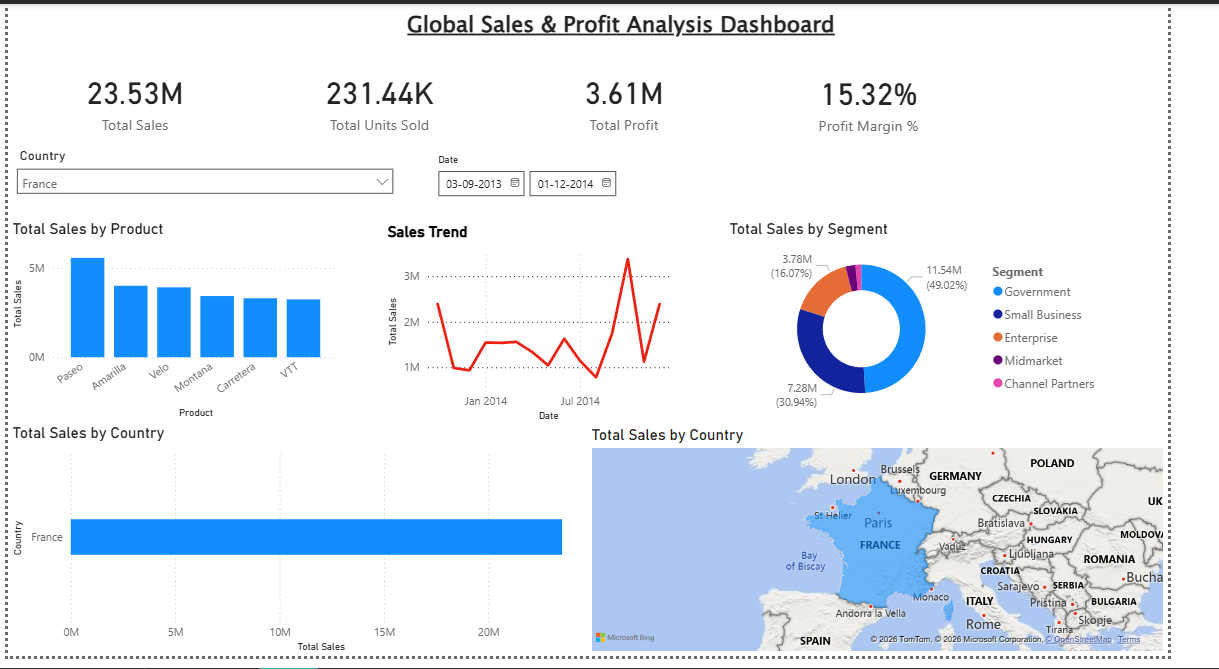

The page's visual inventory and layout, read from the dashboard file:
{"tool":"powerbi","page":{"name":"Page 1","canvas":[1280,720],"ordinal":0},"visuals":[{"type":"card","fields":{"Values":["Table2.Total Sales"]},"box":[0,58,279.9,96.1],"z":0},{"type":"card","fields":{"Values":["Table2.Total Profit"]},"box":[540,58,279.9,96.1],"z":1},{"type":"card","fields":{"Values":["Table2.Profit Margin %"]},"box":[810,58,279.9,97.7],"z":2},{"type":"card","fields":{"Values":["Table2.Total Units Sold"]},"box":[270,58,279.9,96.1],"z":3},{"type":"lineChart","title":"Sales Trend","fields":{"Y":["Table2.Total Sales"],"Category":["Table2.Date"]},"box":[414.6,241.1,332.1,223.2],"z":4},{"type":"clusteredBarChart","fields":{"Category":["Table2.Country"],"Y":["Table2.Total Sales"]},"box":[0,463.8,639.4,256.8],"z":5},{"type":"donutChart","fields":{"Category":["Table2.Segment"],"Y":["Table2.Total Sales"]},"box":[791.8,238.5,422.4,220.3],"z":6},{"type":"slicer","fields":{"Values":["Table2.Date"]},"box":[462.2,160.7,329.6,71.2],"z":7},{"type":"slicer","fields":{"Values":["Table2.Country"]},"box":[0,154.1,435.7,84.5],"z":8},{"type":"columnChart","fields":{"Category":["Table2.Product"],"Y":["Table2.Total Sales"]},"box":[0,239.3,369.6,223.2],"z":9},{"type":"filledMap","fields":{"Category":["Table2.Country"]},"box":[639.4,465.5,641.1,253.4],"z":10},{"type":"textbox","box":[435.7,0,515.2,58],"z":11}]}

Visuals, with their boxes in screenshot pixels (x1, y1, x2, y2), scaled from the page's 1280x720 canvas onto the 1219x669 screenshot:
card - Table2.Total Sales: (x1=0, y1=54, x2=267, y2=143)
card - Table2.Total Profit: (x1=514, y1=54, x2=781, y2=143)
card - Table2.Profit Margin %: (x1=771, y1=54, x2=1038, y2=145)
card - Table2.Total Units Sold: (x1=257, y1=54, x2=524, y2=143)
"Sales Trend" lineChart: (x1=395, y1=224, x2=711, y2=431)
clusteredBarChart - Table2.Country x Table2.Total Sales: (x1=0, y1=431, x2=609, y2=668)
donutChart - Table2.Segment x Table2.Total Sales: (x1=754, y1=222, x2=1156, y2=426)
slicer - Table2.Date: (x1=440, y1=149, x2=754, y2=215)
slicer - Table2.Country: (x1=0, y1=143, x2=415, y2=222)
columnChart - Table2.Product x Table2.Total Sales: (x1=0, y1=222, x2=352, y2=430)
filledMap - Table2.Country: (x1=609, y1=433, x2=1218, y2=668)
textbox: (x1=415, y1=0, x2=906, y2=54)
